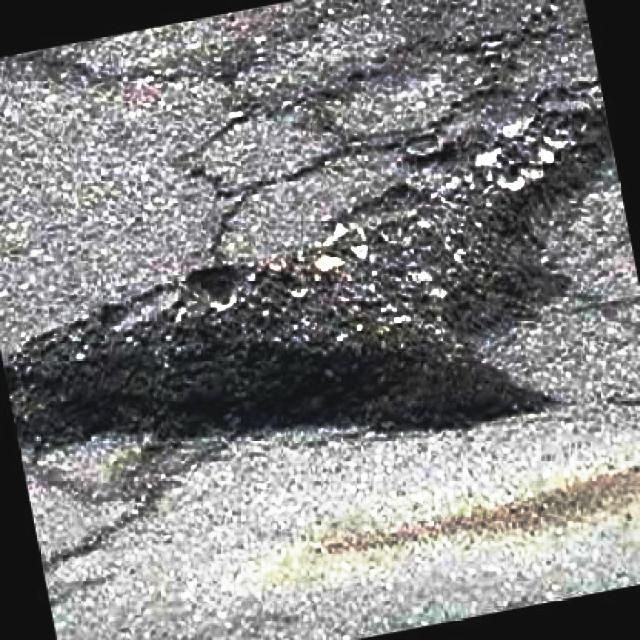pothole: (2, 90, 629, 452)
